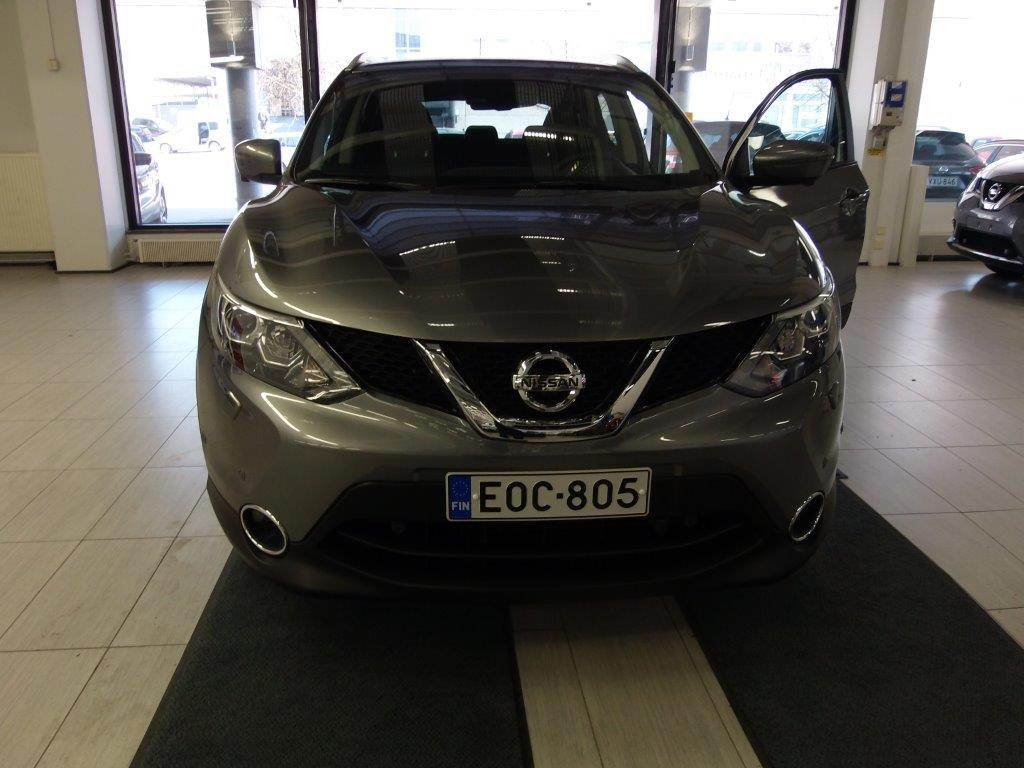license: (446, 466, 650, 523)
